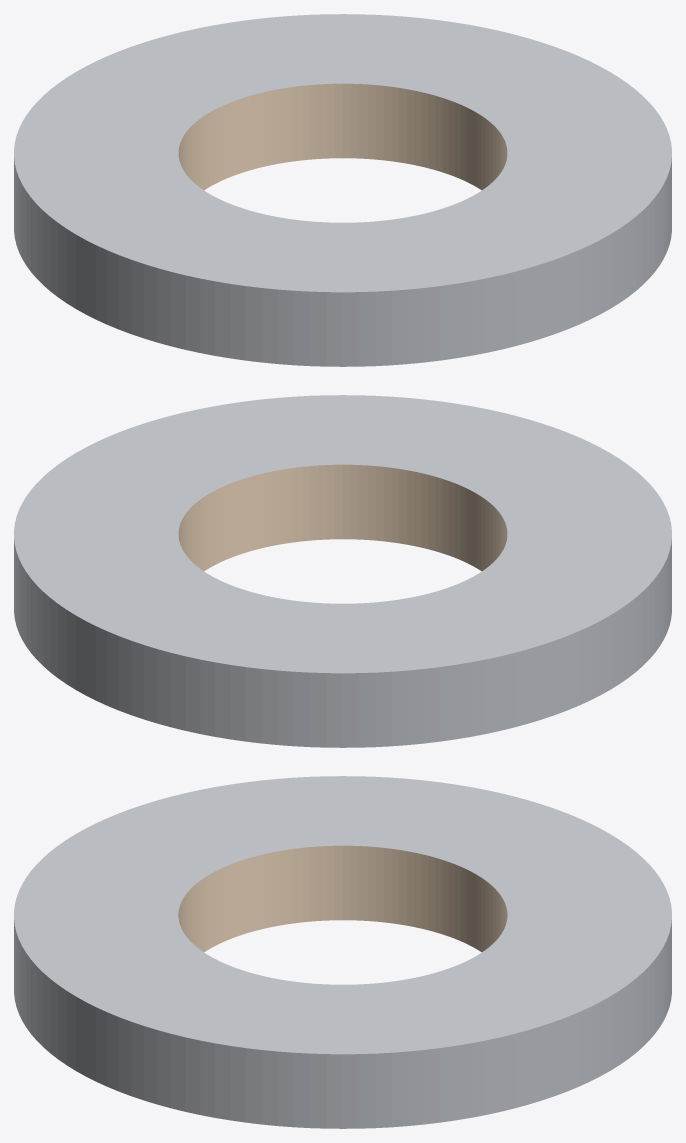
3 renders of one model, top to bottom at view 1: azimuth 30°, elevation 25°; view 2: azimuth 150°, elevation 25°; view 3: azimuth 270°, elevation 25°, orthographic.
Visible parts, largest first — view 1: Node1, Node2; view 2: Node1, Node2; view 3: Node1, Node2.
Boxes of the visible parts, left/top/right/bottom form: Node1: left=14, top=14, right=671, bottom=366; Node2: left=178, top=83, right=507, bottom=190; Node1: left=14, top=395, right=671, bottom=747; Node2: left=178, top=464, right=507, bottom=571; Node1: left=14, top=776, right=671, bottom=1128; Node2: left=178, top=845, right=507, bottom=952.
Size of the model in its own units: 16 by 2 by 16.
